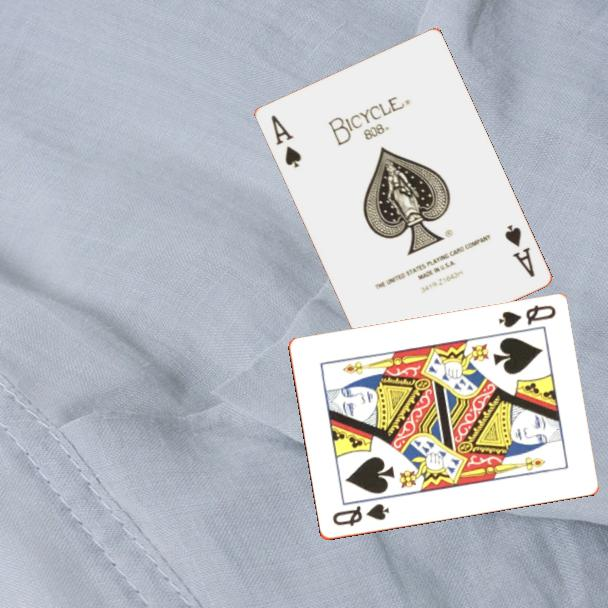s01: (267, 111, 304, 171), (501, 221, 537, 280)
s12: (329, 500, 392, 529), (495, 302, 558, 331)
